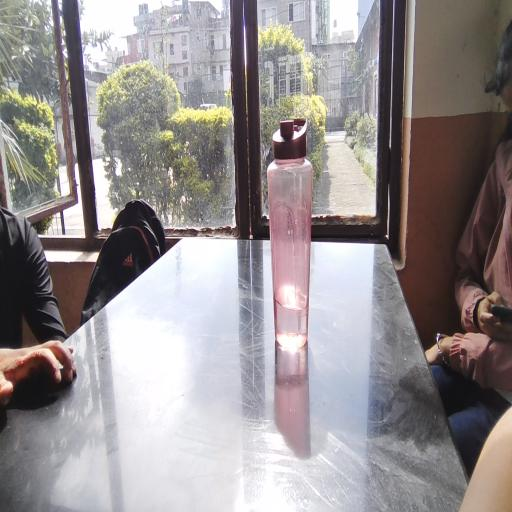Bottle: (261, 123, 342, 373)
